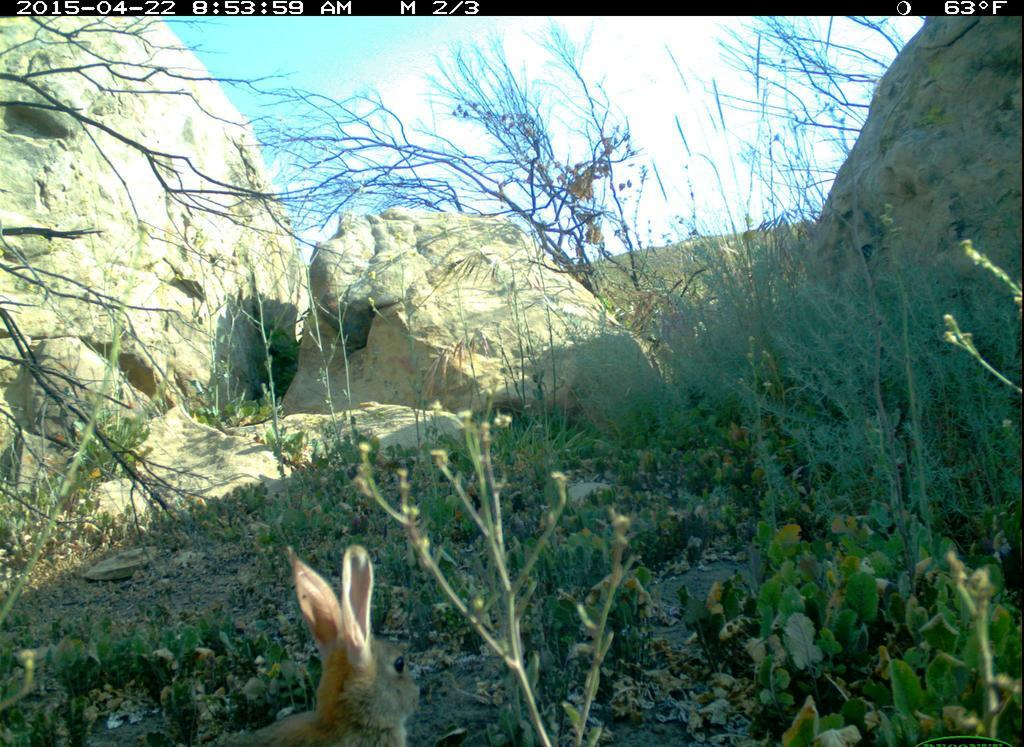rabbit: (209, 538, 427, 747)
